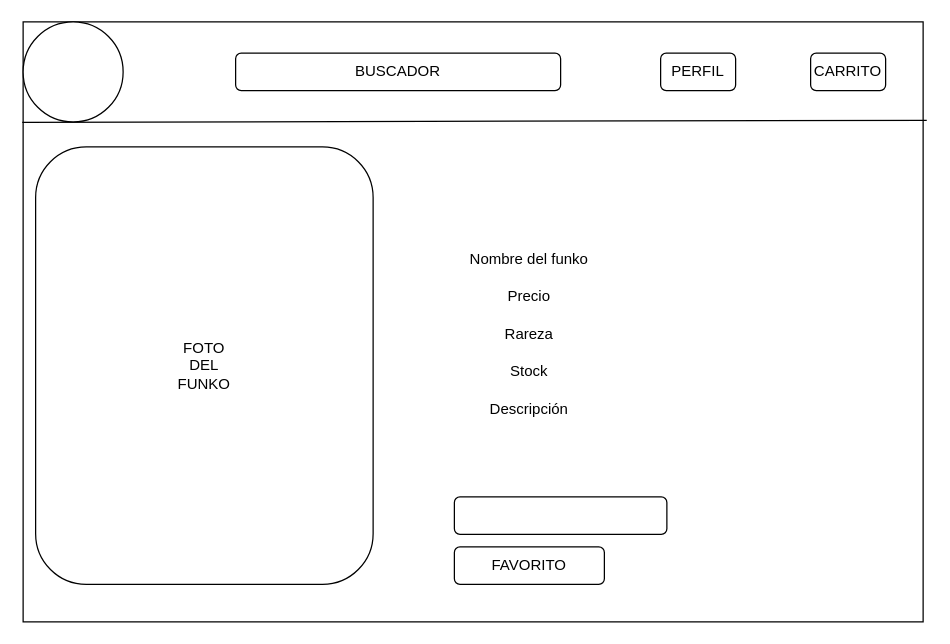
Image size: 950x644. Some labels were removed from this diagram. Here are the shapes that lost their labels. From the top down, the centre of each, then its label:
(72,71): LOGO
(560,515): AGREGAR AL CARRITO
